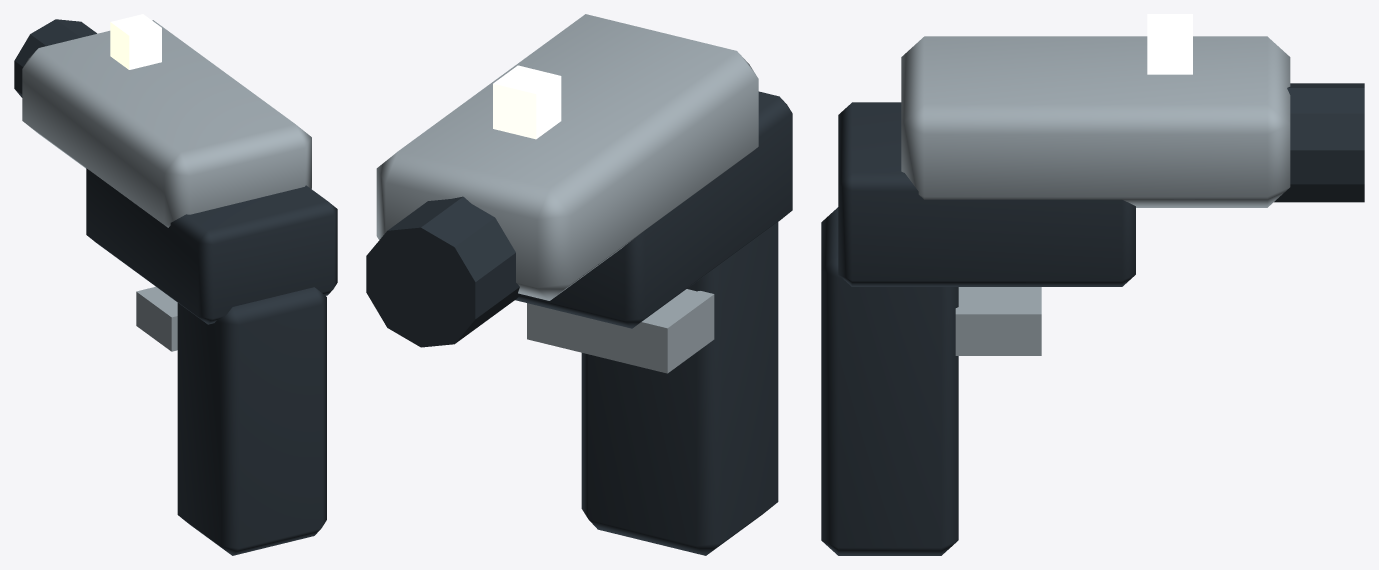
Rendered from pistol.glb.
3 views of the same model, side by side, from view 1: azimuth 30°, elevation 25°; view 2: azimuth 150°, elevation 25°; view 3: azimuth 270°, elevation 25° (orthographic). The views are drawn at different scales.
Parts seen in each view (by area): view 1: pistol_grip, pistol_slide, pistol_frame, pistol_sight, pistol_trigger_guard, pistol_muzzle; view 2: pistol_slide, pistol_grip, pistol_frame, pistol_muzzle, pistol_trigger_guard, pistol_sight; view 3: pistol_slide, pistol_grip, pistol_frame, pistol_muzzle, pistol_trigger_guard, pistol_sight.
Part boxes in pixels (x1,y1,x2,y2): pistol_grip: (177,287,326,555); pistol_slide: (22,20,311,227); pistol_frame: (86,168,337,324); pistol_sight: (110,14,161,69); pistol_trigger_guard: (136,286,177,351); pistol_muzzle: (14,19,96,97); pistol_slide: (376,14,758,300); pistol_grip: (581,222,778,555); pistol_frame: (515,91,792,328); pistol_muzzle: (366,196,520,347); pistol_trigger_guard: (527,289,714,373); pistol_sight: (493,65,561,139); pistol_slide: (901,36,1290,207); pistol_grip: (821,207,958,555); pistol_frame: (838,102,1135,286); pistol_muzzle: (1274,83,1364,202); pistol_trigger_guard: (955,287,1041,355); pistol_sight: (1147,14,1192,74).
Size of the model in its own units: 0.18 by 0.49 by 0.475.
